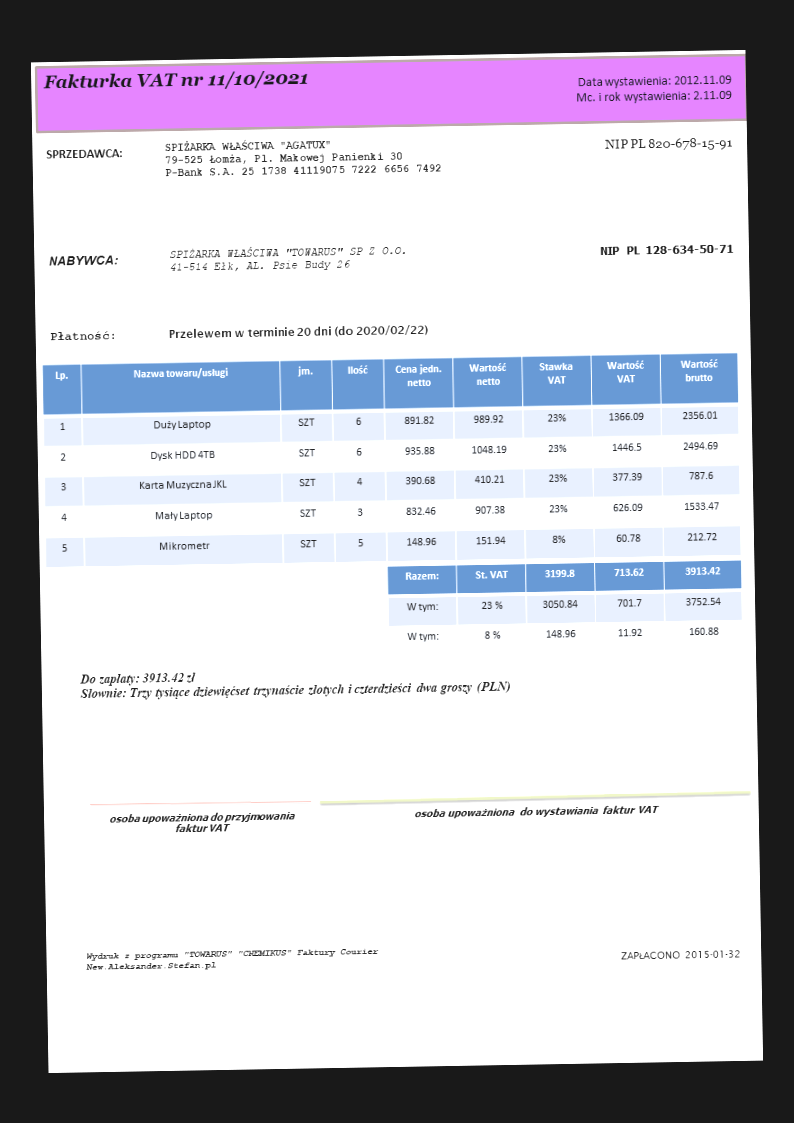Table: (40, 350, 742, 568), (386, 559, 743, 658)
TextBox: (77, 663, 513, 703), (160, 135, 442, 180), (82, 945, 381, 974), (166, 242, 409, 274), (40, 67, 310, 93), (412, 801, 663, 823), (572, 71, 735, 104), (107, 808, 296, 836), (166, 323, 430, 343), (598, 240, 735, 259), (600, 135, 734, 153), (617, 946, 742, 965), (43, 145, 124, 161), (48, 326, 118, 344), (46, 251, 119, 268)
